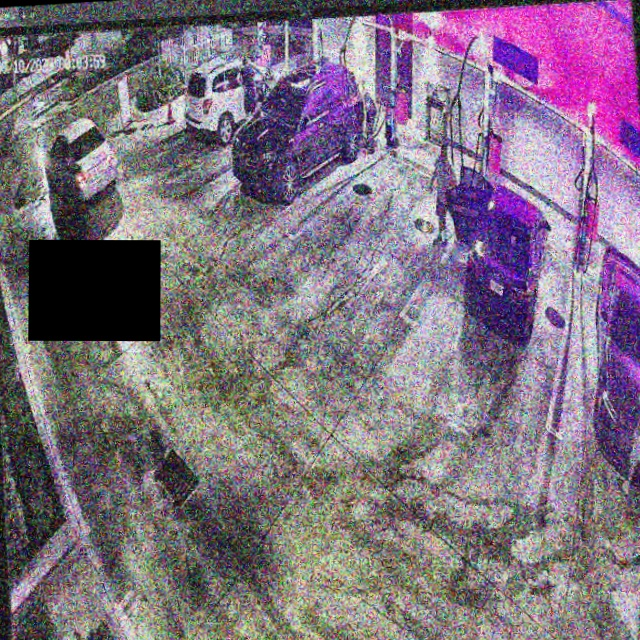Car: (441, 158, 557, 339), (228, 59, 371, 201)
